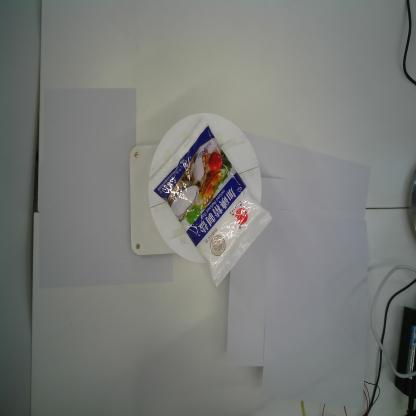Seasoner: (146, 114, 273, 289)
